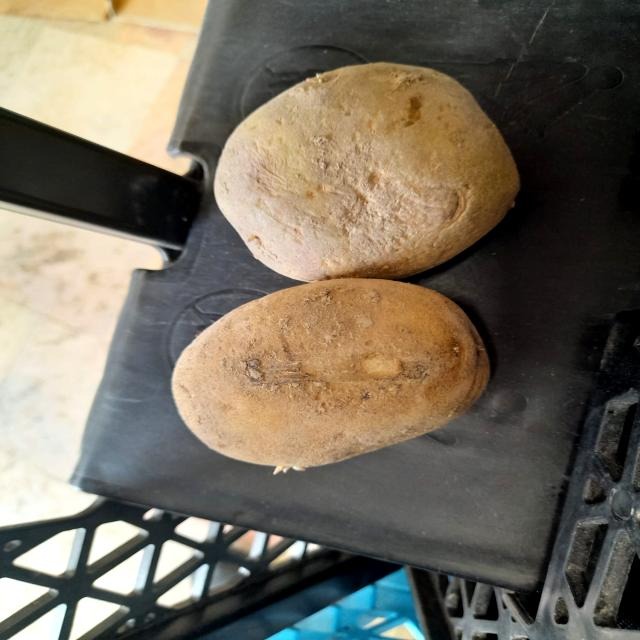potato: (180, 39, 524, 280), (153, 260, 505, 486)
